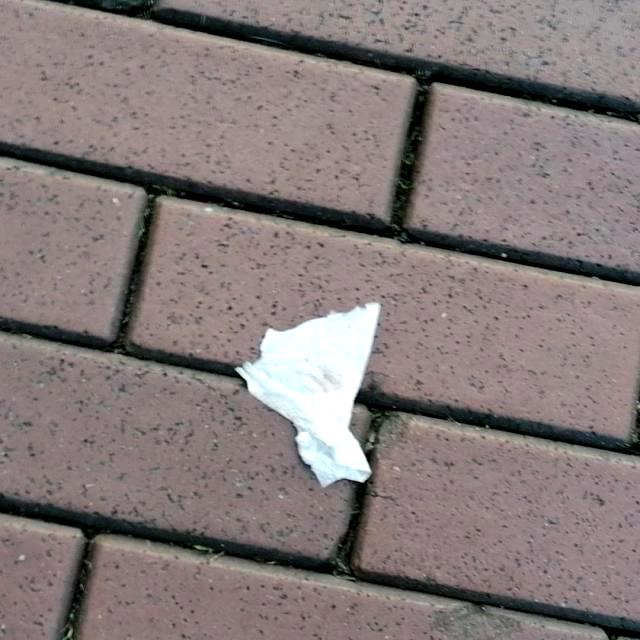Paper: (232, 301, 380, 491)
